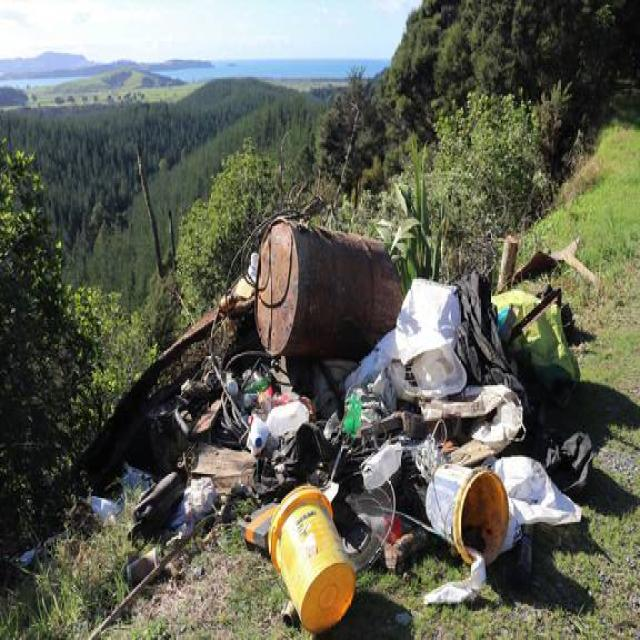dumping: (116, 217, 604, 602)
